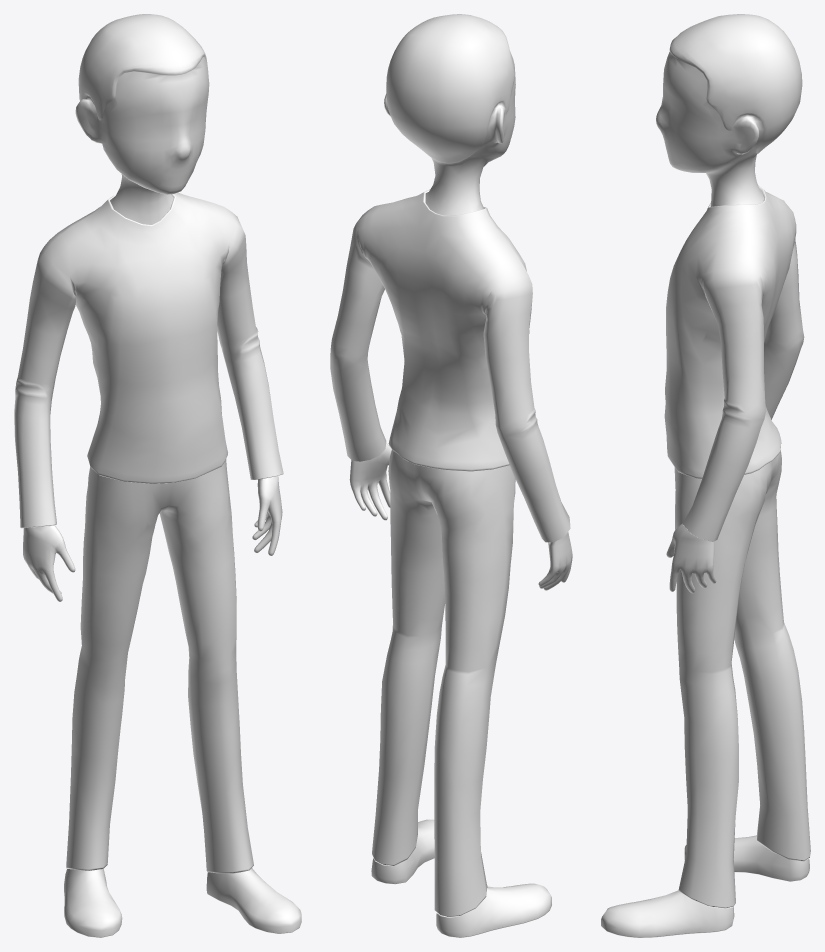
The model's file is Modelo-hombre.fbx.
3 renders of one model, left to right at view 1: azimuth 30°, elevation 25°; view 2: azimuth 150°, elevation 25°; view 3: azimuth 270°, elevation 25°, orthographic.
Visible parts, largest first — view 1: root; view 2: root; view 3: root.
Boxes of the visible parts, x1,y1,x2,y2 form: root: [14, 14, 301, 937]; root: [330, 14, 572, 937]; root: [601, 14, 810, 937].
Bounding box in the file's own units: 1.64 × 5.77 × 1.27.
1 material, 1 textured.
